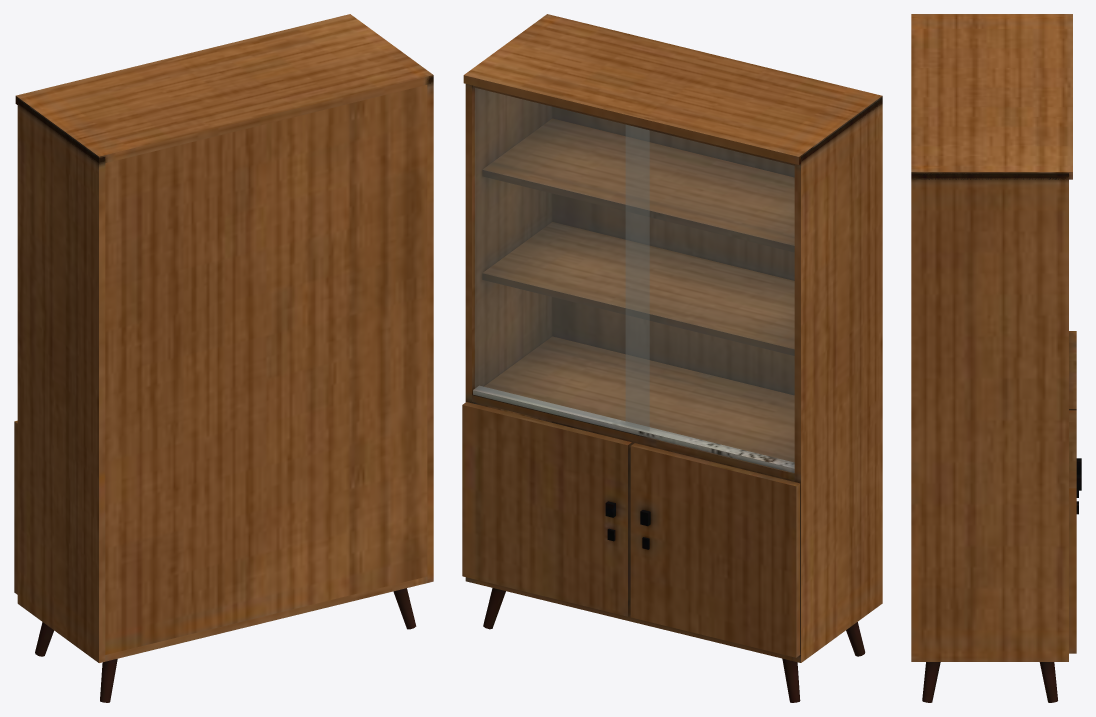
The model's file is sideboard_tall_lod1_web.glb.
The picture shows the model from 3 angles, left to right: view 1: azimuth 30°, elevation 25°; view 2: azimuth 150°, elevation 25°; view 3: azimuth 270°, elevation 25°; orthographic projection. The views are drawn at different scales.
Visible parts, largest first — view 1: SideboardTall_Body, Door_R_Mesh; view 2: SideboardTall_Body, Glass_A, Glass_B, Door_R_Mesh, Door_L_Mesh; view 3: SideboardTall_Body, Door_L_Mesh, Door_R_Mesh.
Part boxes in pixels (x1,y1,x2,y2): SideboardTall_Body: [15, 14, 433, 702]; Door_R_Mesh: [14, 420, 17, 594]; SideboardTall_Body: [463, 14, 882, 702]; Glass_A: [475, 88, 649, 430]; Glass_B: [626, 125, 794, 463]; Door_R_Mesh: [630, 443, 800, 657]; Door_L_Mesh: [462, 402, 631, 616]; SideboardTall_Body: [911, 14, 1072, 702]; Door_L_Mesh: [1069, 410, 1081, 653]; Door_R_Mesh: [1069, 331, 1081, 497].
Size of the model in its own units: 0.95 by 1.51 by 0.432.
Materials: 2 (1 with a texture image).
